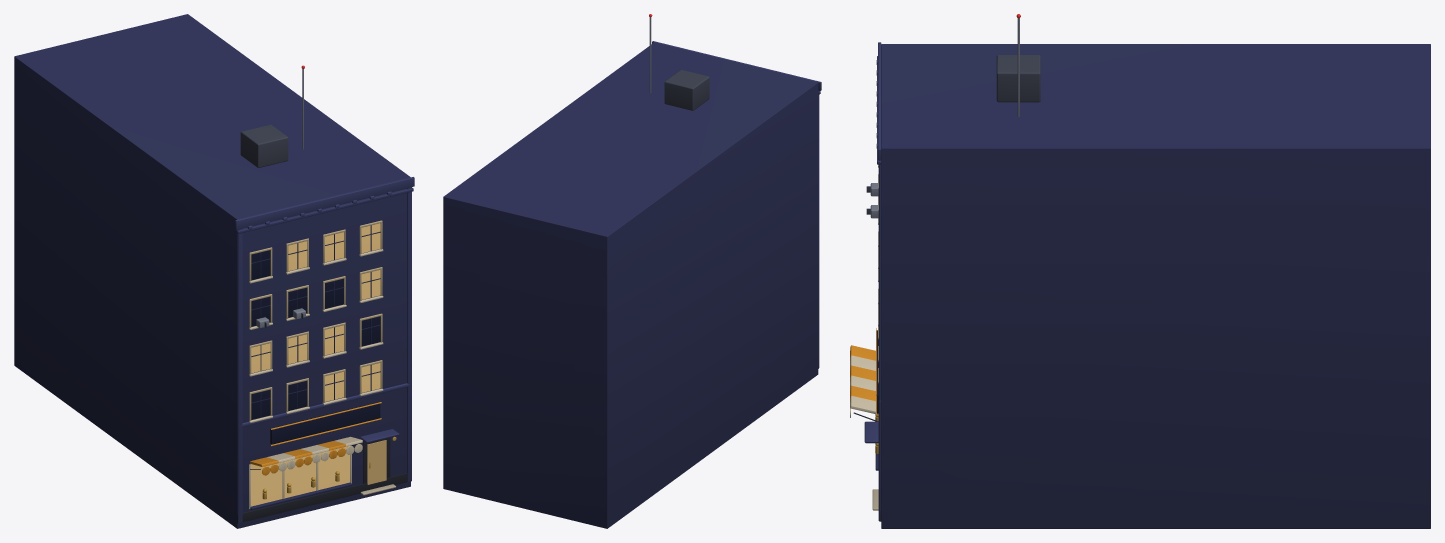
Rendered from SM_City_Bld_PawnShop.fbx.
3 renders of one model, left to right at view 1: azimuth 30°, elevation 25°; view 2: azimuth 150°, elevation 25°; view 3: azimuth 270°, elevation 25°, orthographic. The views are drawn at different scales.
Visible parts, largest first — view 1: SM_City_Bld_PawnShop; view 2: SM_City_Bld_PawnShop; view 3: SM_City_Bld_PawnShop.
Part boxes in pixels (x1,y1,x2,y2): SM_City_Bld_PawnShop: [14, 14, 414, 528]; SM_City_Bld_PawnShop: [443, 14, 821, 528]; SM_City_Bld_PawnShop: [850, 14, 1430, 528].
Bounding box in the file's own units: 924 × 1942 × 2114.
